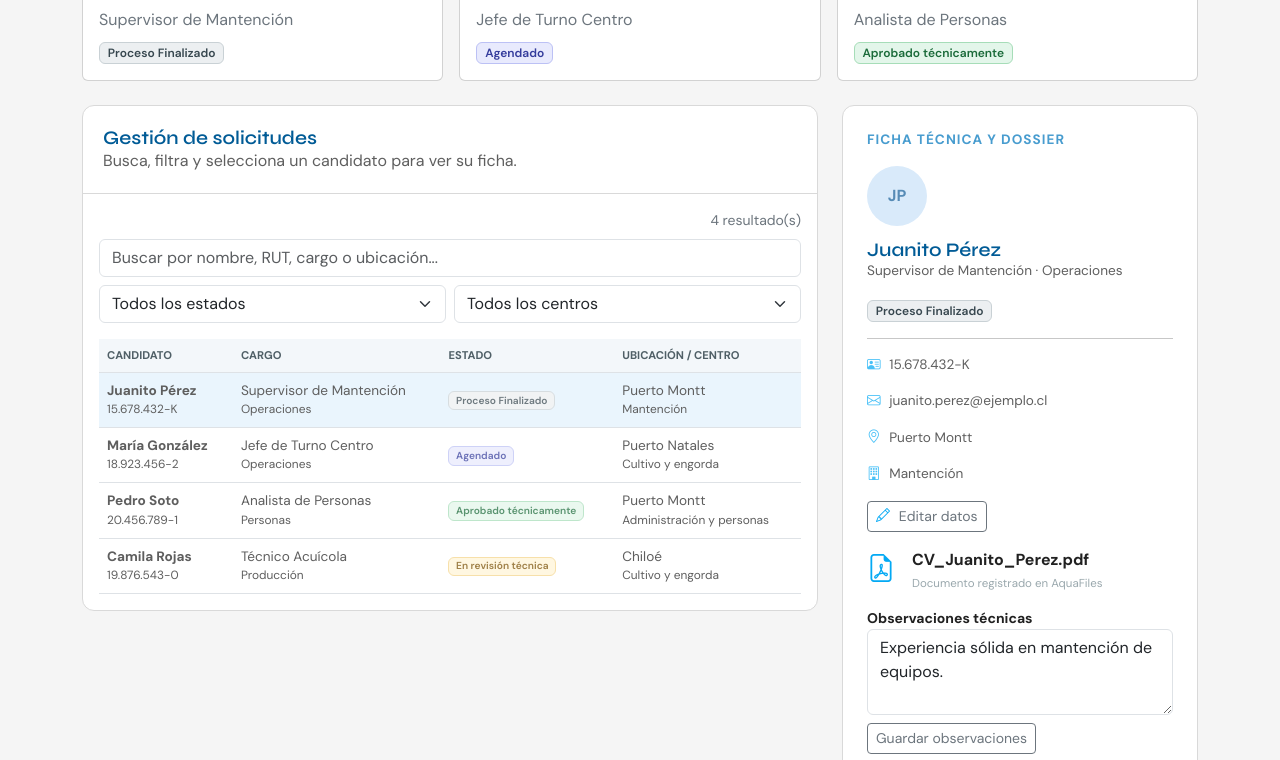
it: Flujo del proceso › no guarda un cargo demasiado corto
(page scrolled)
Click the row "Camila Rojas" at (450, 566), box x1=99 y1=538 x2=801 y2=593
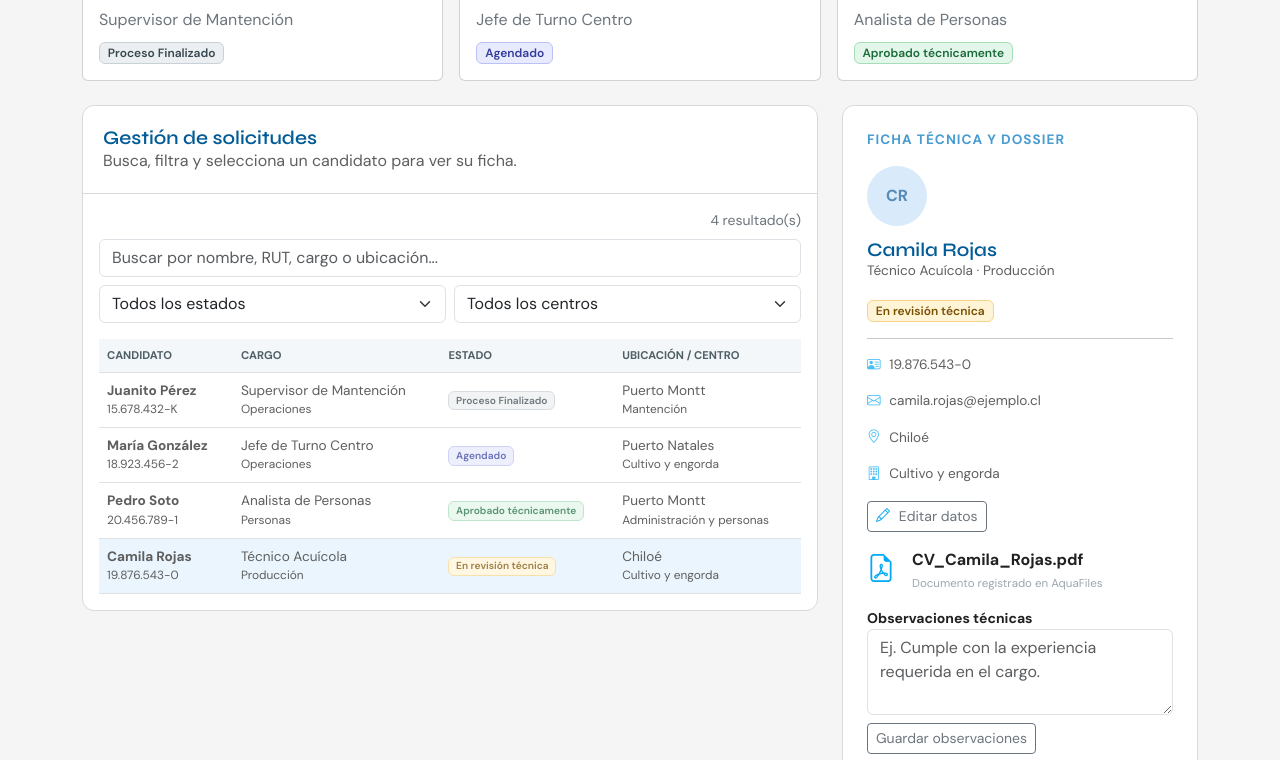
Click the button "Editar datos" at (927, 516), box x1=867 y1=500 x2=987 y2=532
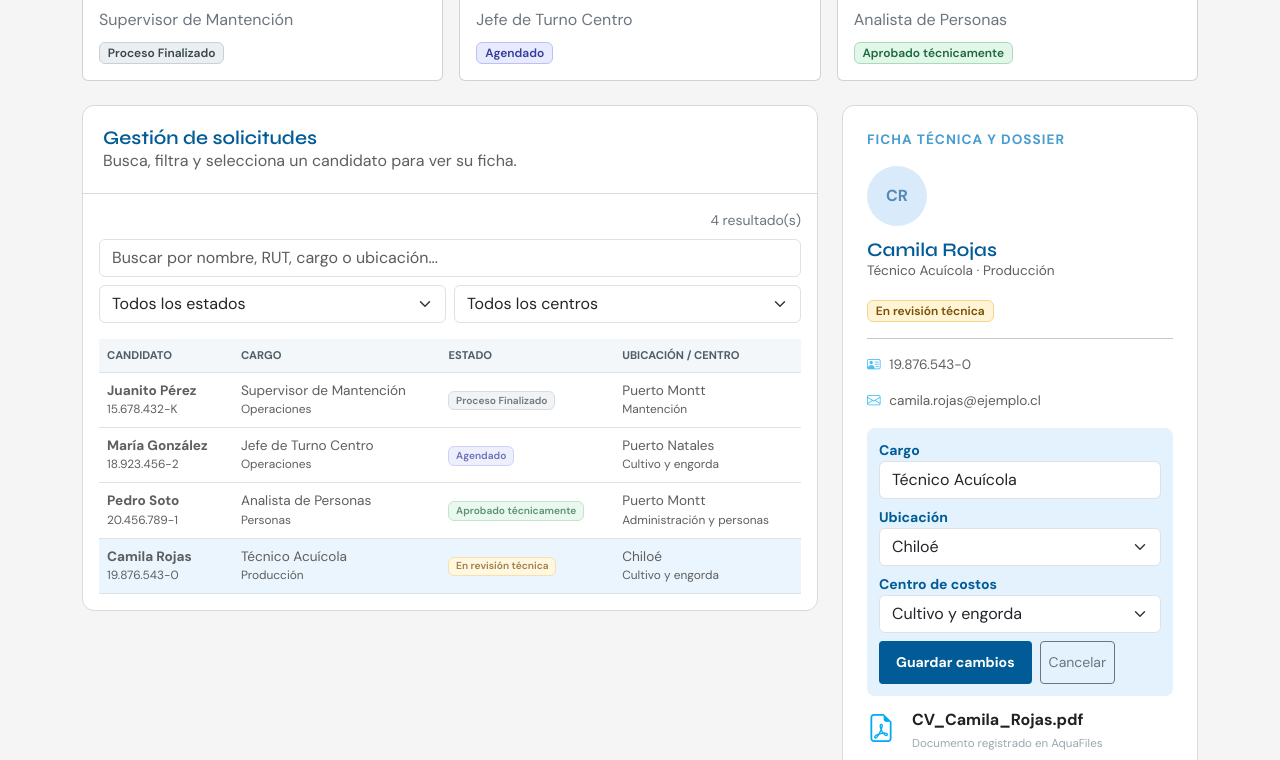
Replace the text in the field labelled "Cargo" with "AB" at (1020, 480), box x1=879 y1=461 x2=1161 y2=499
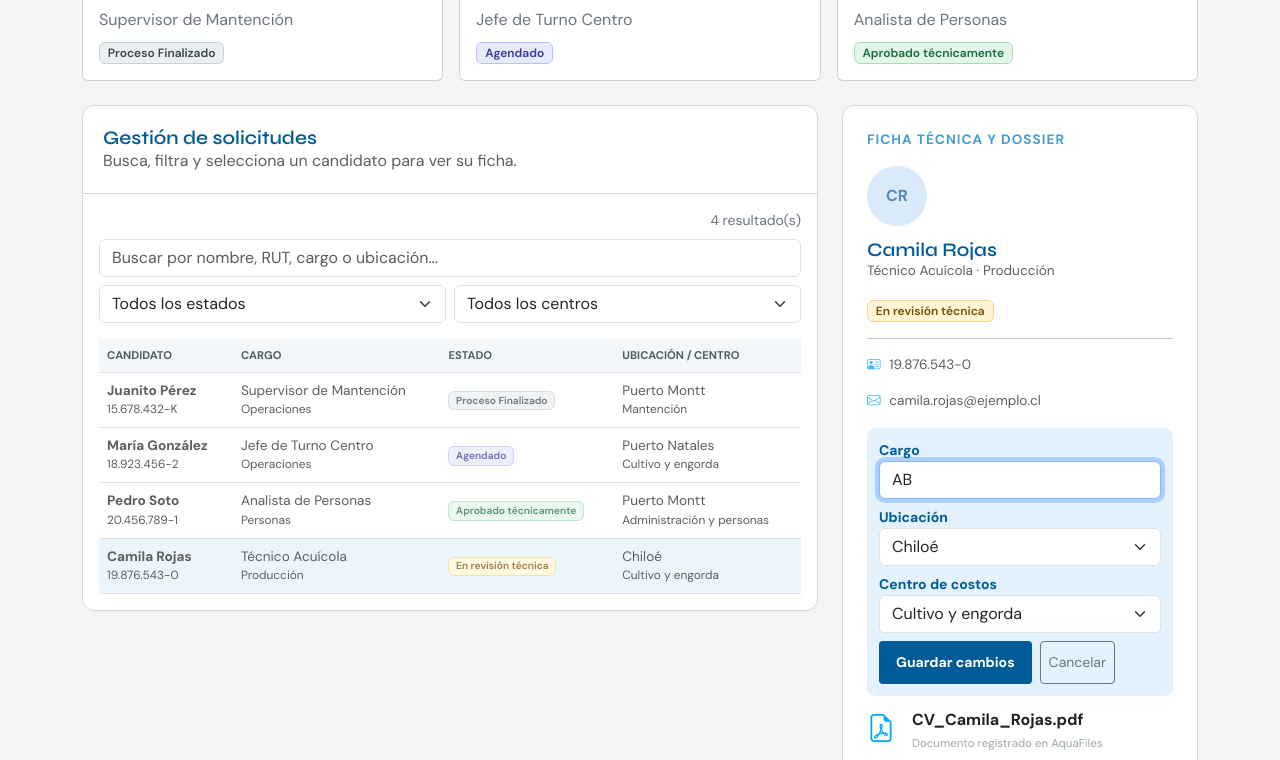
Click the button "Guardar cambios" at (955, 662), box x1=879 y1=641 x2=1032 y2=684
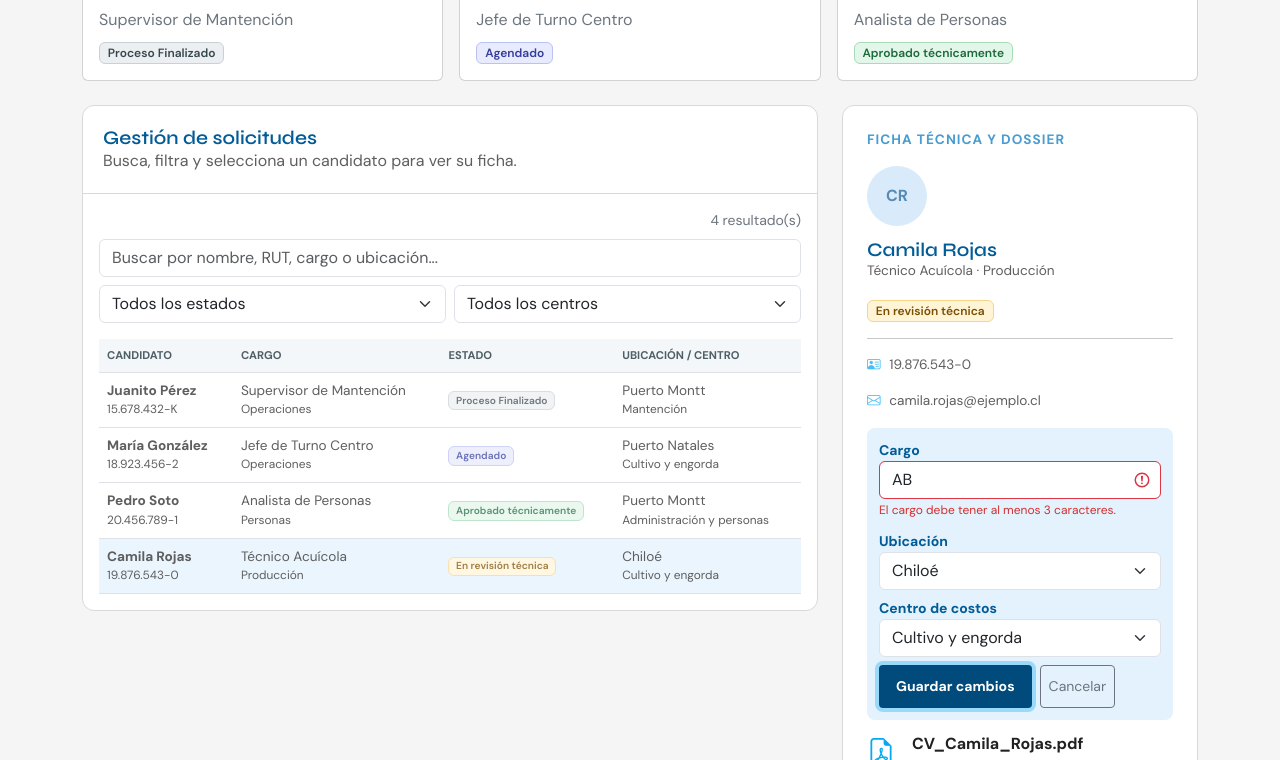
Now the text "El cargo debe tener al menos 3 caracteres." is shown, box x1=879 y1=502 x2=1116 y2=518
